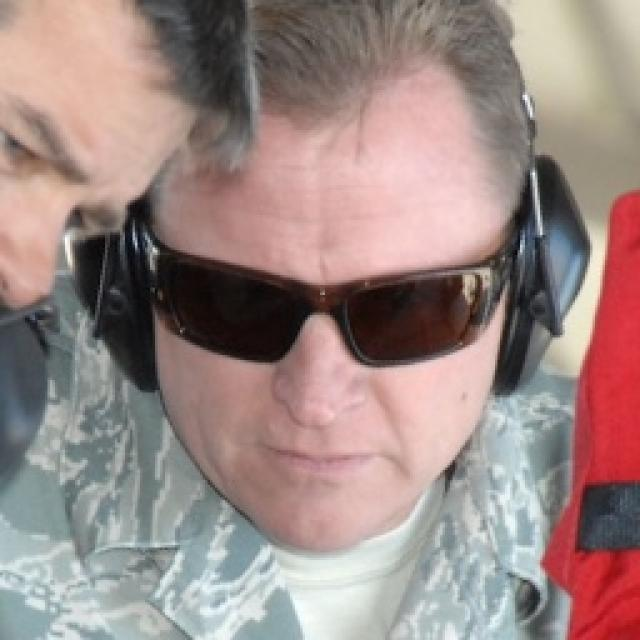glasses: (129, 202, 525, 370)
no-glasses: (0, 75, 126, 252)
